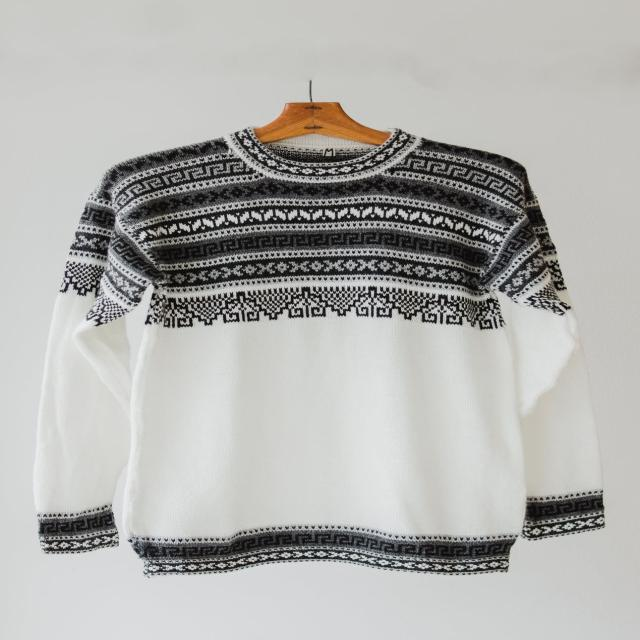Chompa: (34, 94, 607, 577)
